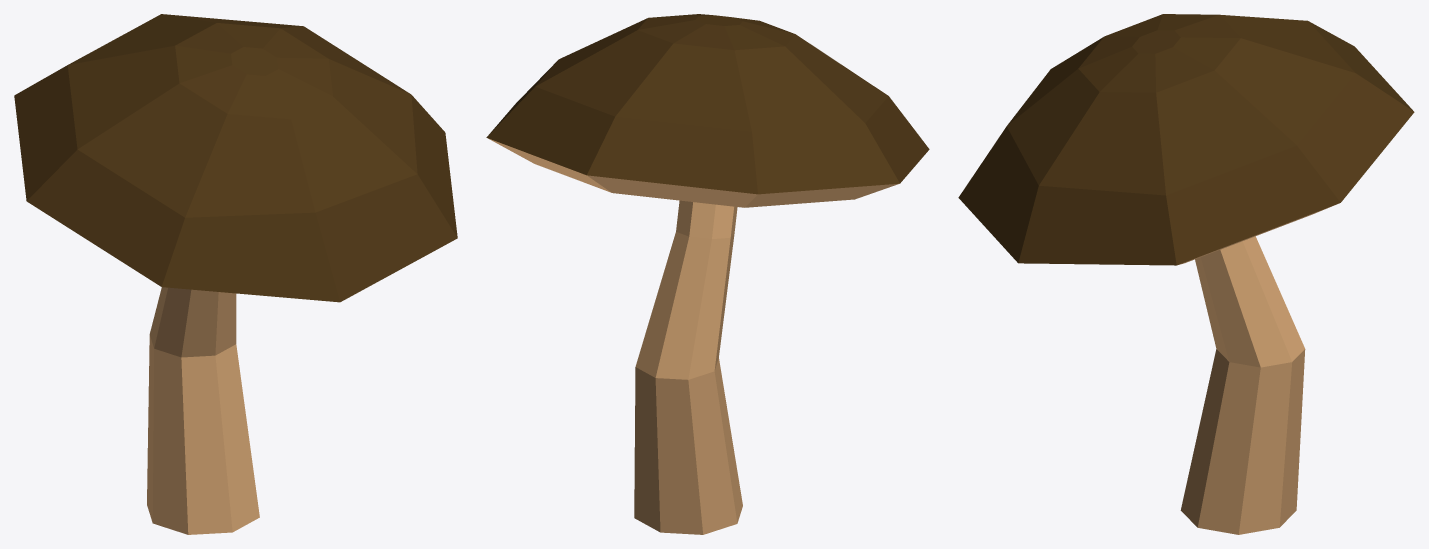
Rendered from mushroom1.fbx.
The picture shows the model from 3 angles, left to right: view 1: azimuth 30°, elevation 25°; view 2: azimuth 150°, elevation 25°; view 3: azimuth 270°, elevation 25°; orthographic projection. The views are drawn at different scales.
Parts seen in each view (by area): view 1: Circle; view 2: Circle; view 3: Circle.
Part boxes in pixels (x1=…): Circle: x1=14, y1=14, x2=457, y2=534; Circle: x1=486, y1=14, x2=929, y2=534; Circle: x1=958, y1=14, x2=1414, y2=534.
Size of the model in its own units: 127 by 143 by 124.
